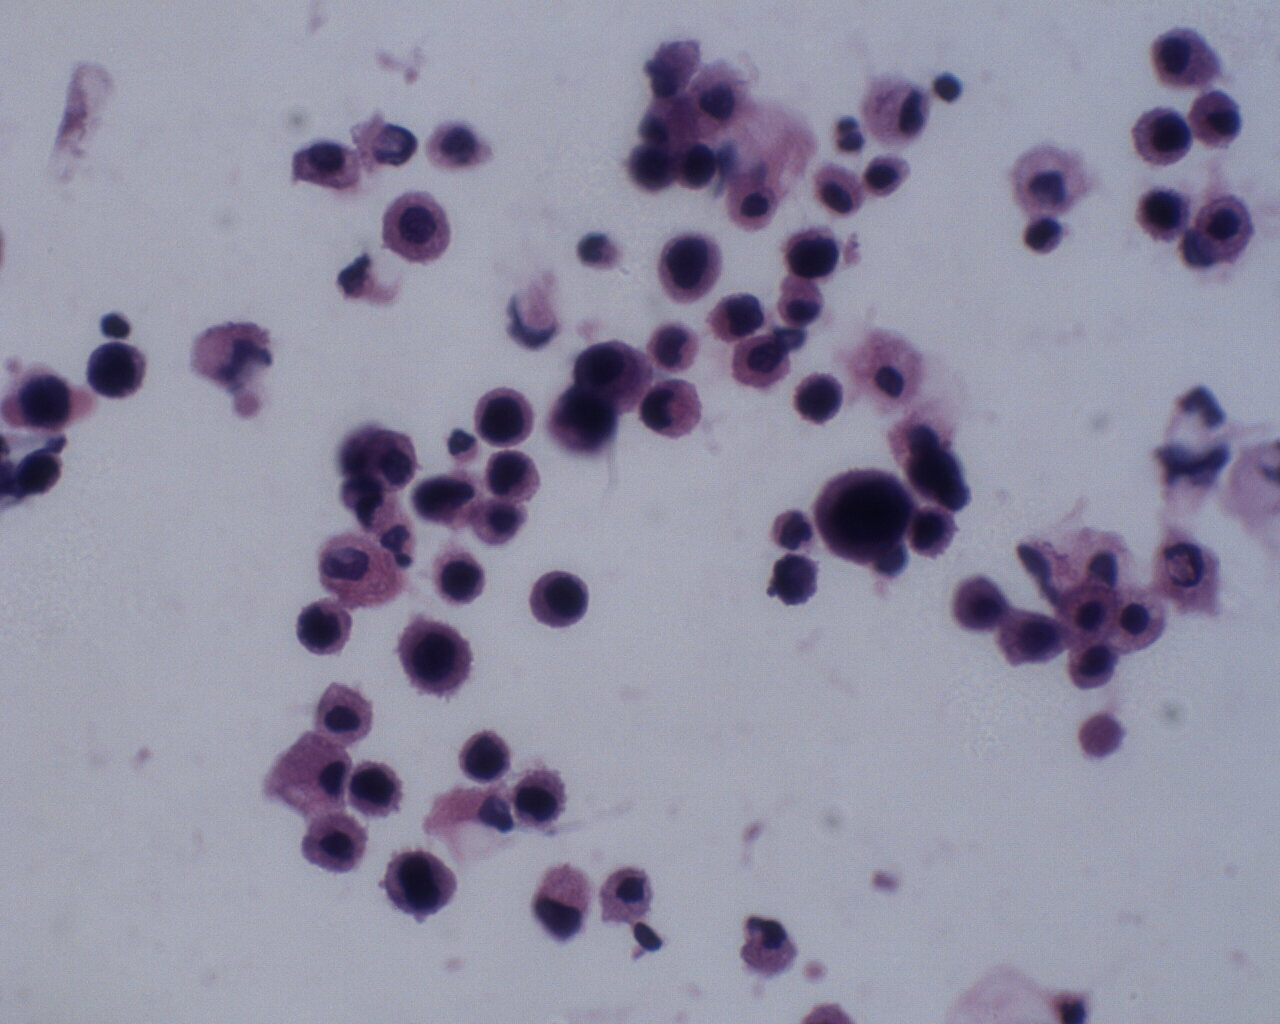ab: (816, 465, 920, 572), (390, 613, 481, 699), (378, 848, 459, 925), (657, 229, 728, 310), (508, 765, 574, 832), (473, 385, 541, 449), (1133, 180, 1198, 245), (779, 223, 847, 285), (82, 341, 148, 401), (788, 370, 850, 430), (294, 598, 354, 656), (458, 728, 514, 785), (904, 504, 961, 558), (430, 552, 485, 606)
histo: (265, 731, 353, 816)
meso: (378, 187, 452, 269), (1198, 187, 1263, 266), (1131, 99, 1198, 174), (1143, 22, 1221, 87), (527, 566, 598, 633), (1056, 582, 1121, 648), (301, 813, 369, 876), (309, 681, 373, 746), (349, 759, 409, 820), (724, 176, 782, 236), (734, 333, 793, 391), (810, 160, 867, 219)
